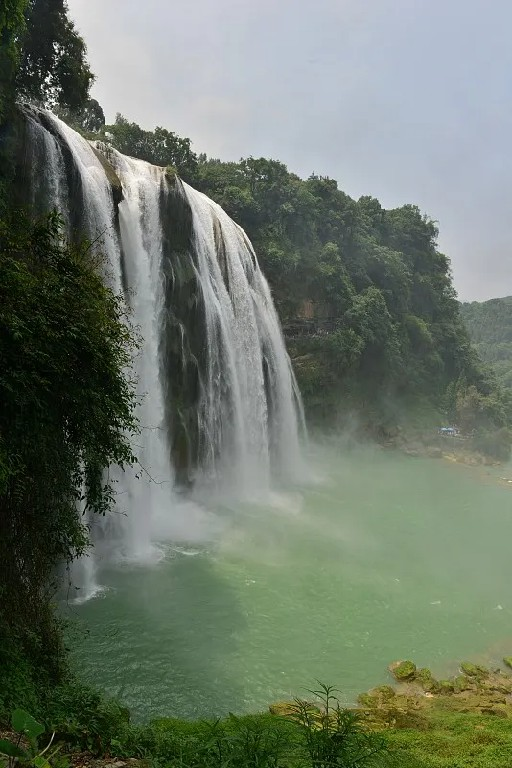Huangguoshu: (28, 99, 313, 590)
